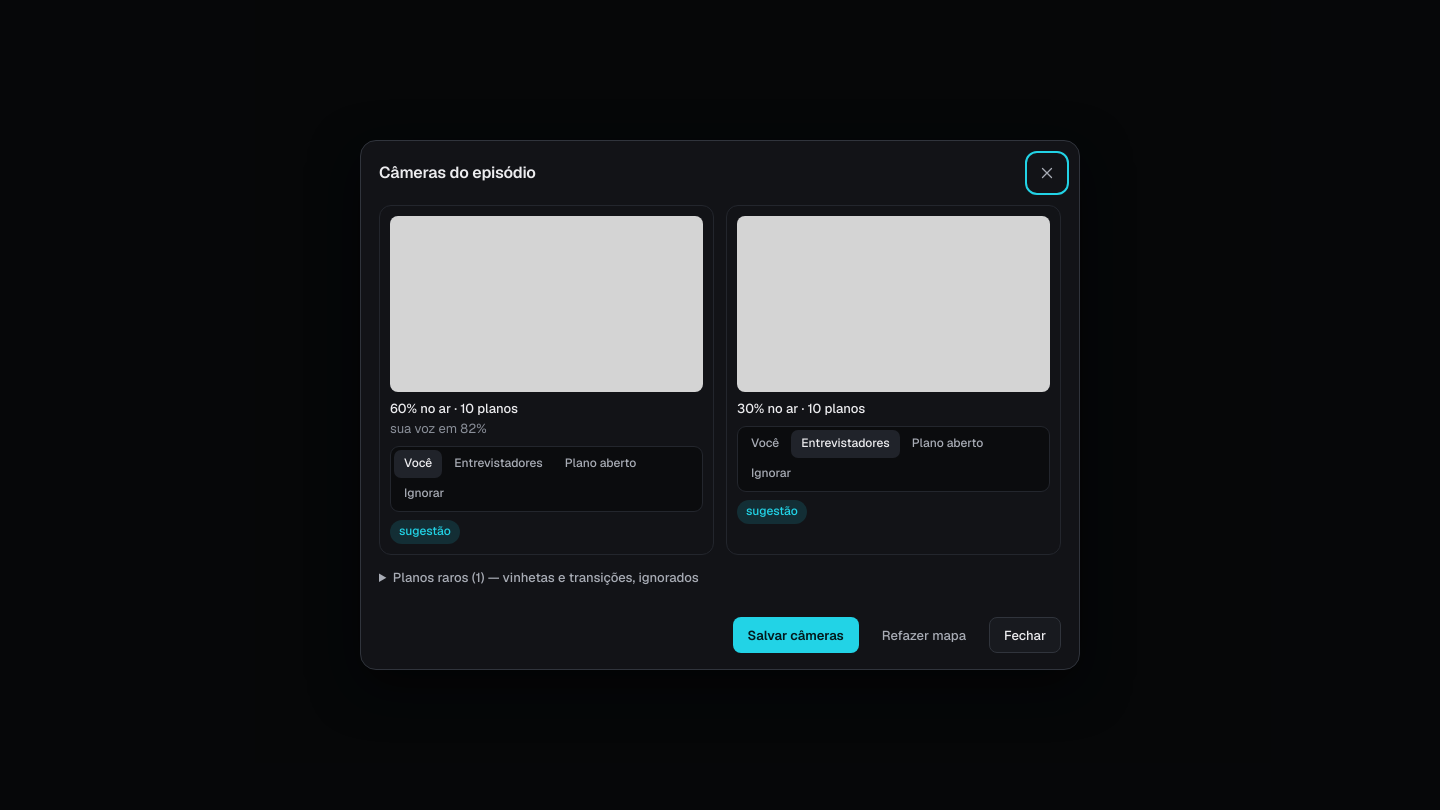
Test: changing a role and saving sends the payload
Step 1. Click the radio button labelled "Plano aberto" below "30%" → (948, 444), box [902, 430, 993, 458]
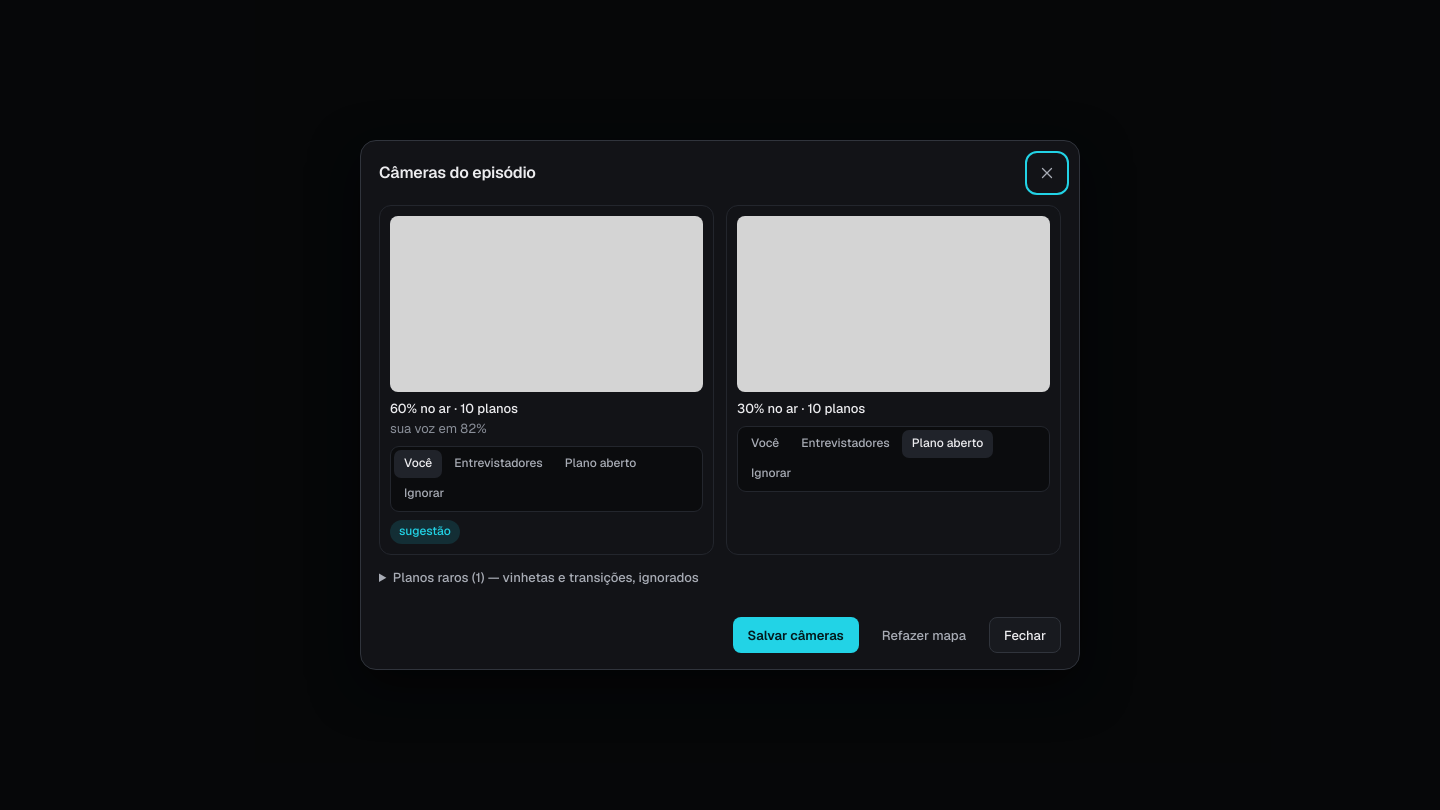
Expected: the text "sugestão" is shown once, [390, 520, 460, 544]
Step 2. Click the button "Salvar câmeras" → (796, 635), box [732, 617, 859, 653]
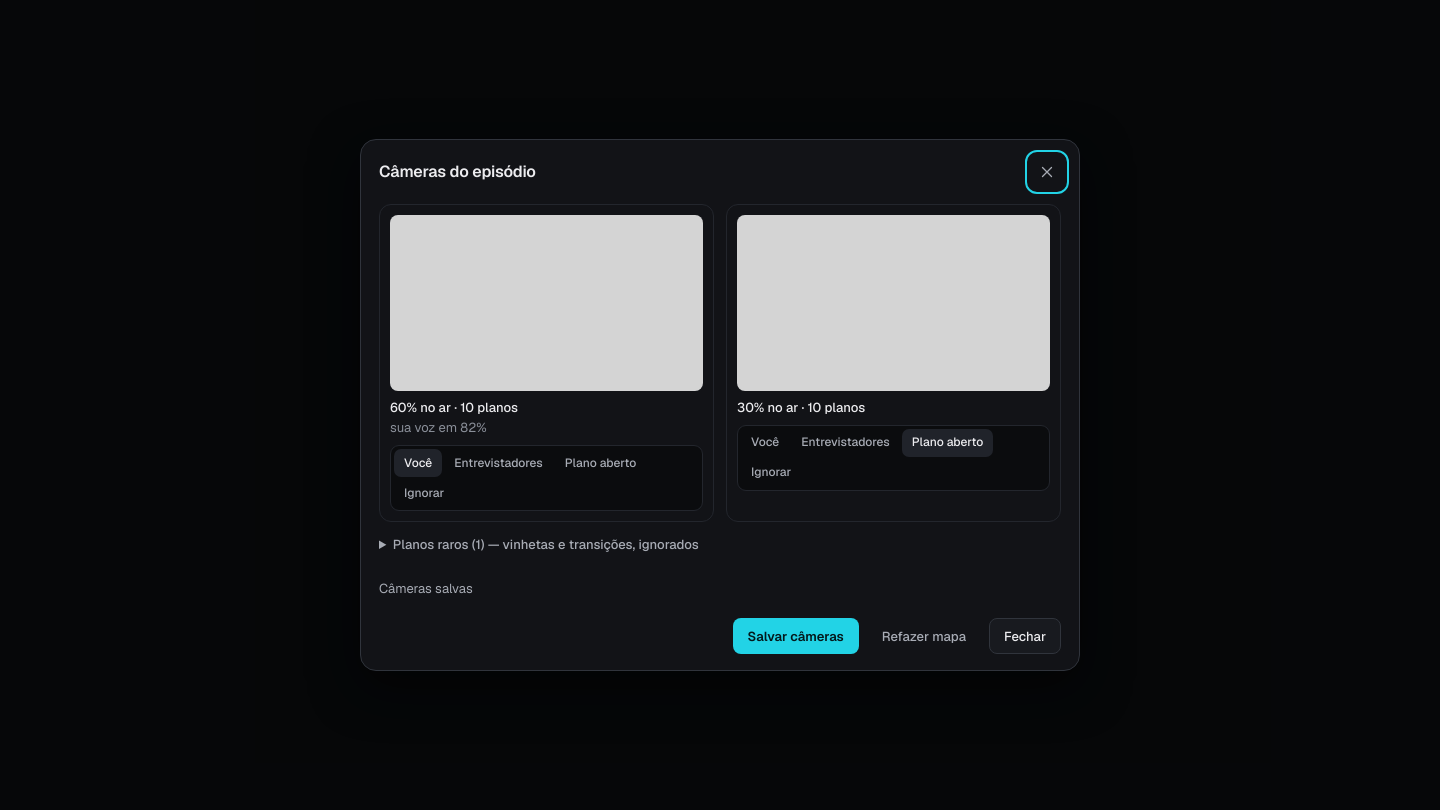
Expected: the text "Câmeras salvas" is shown, [379, 580, 473, 597]
Expected: the text "sugestão" is gone
